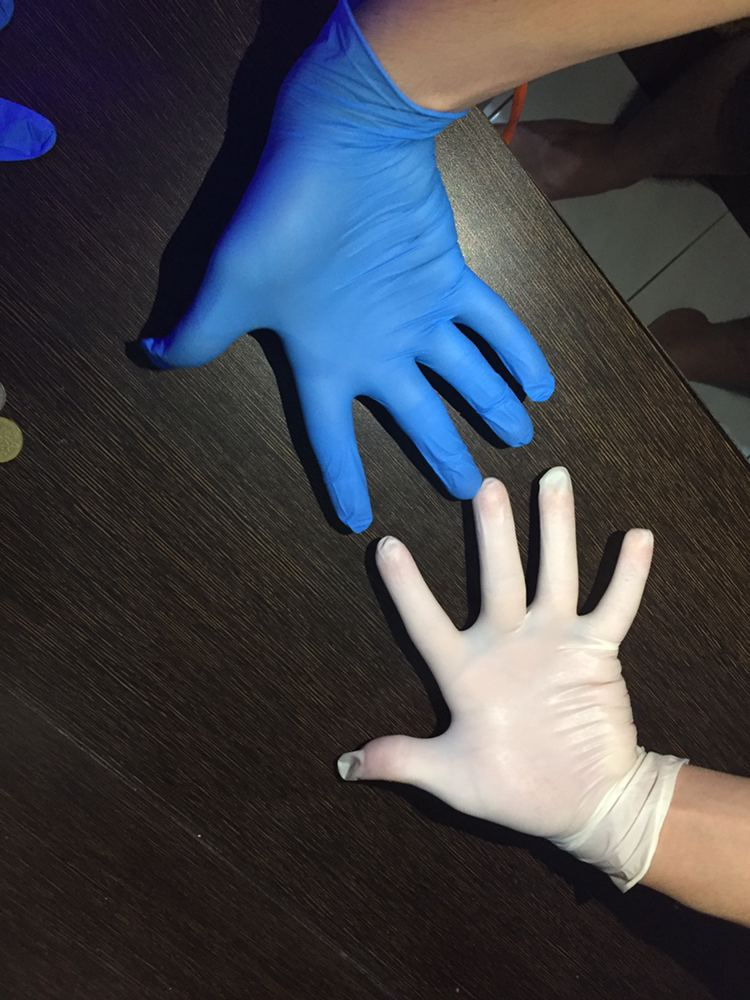glove: (121, 125, 653, 545), (285, 481, 660, 842)
